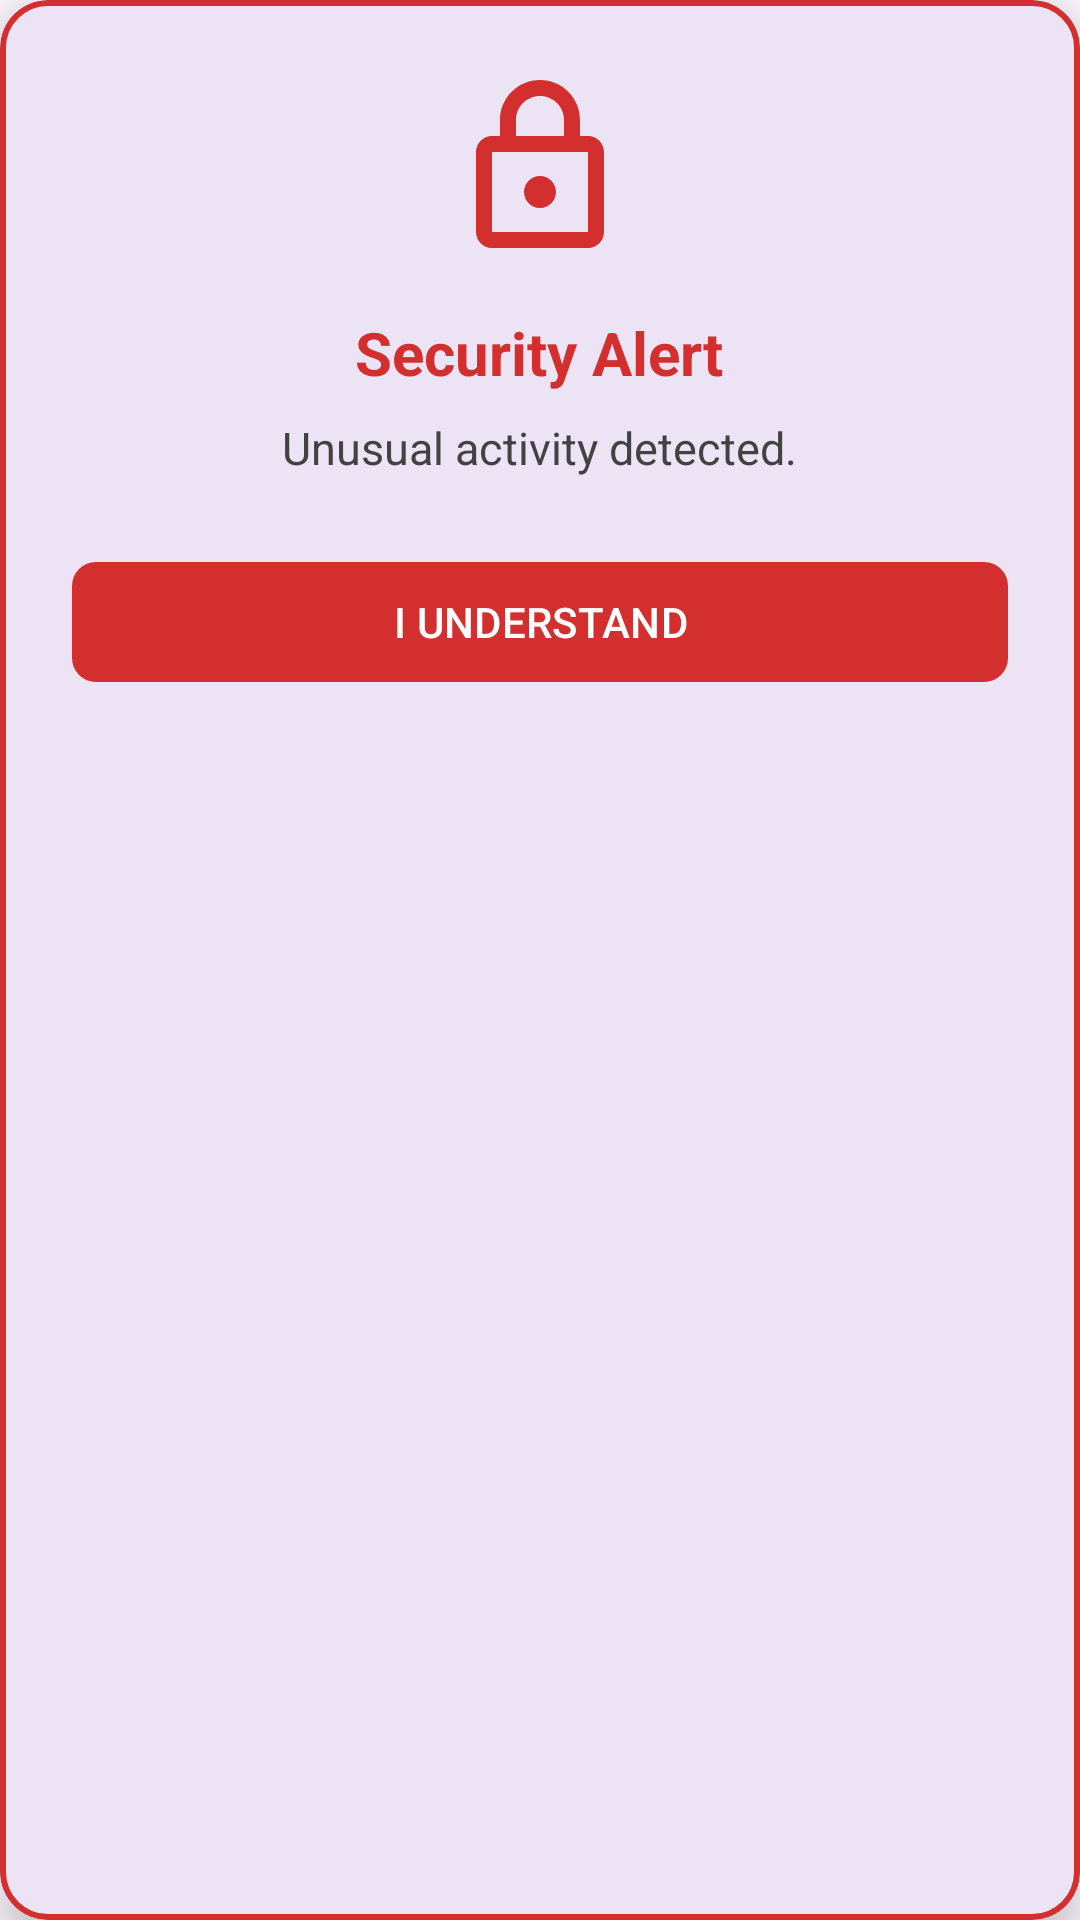

Icon bounding boxes for this 1080 × 1920 phone screenshot, format (left=x1, top=y1, right=x2, bottom=y2):
lock: (left=476, top=80, right=604, bottom=248)
